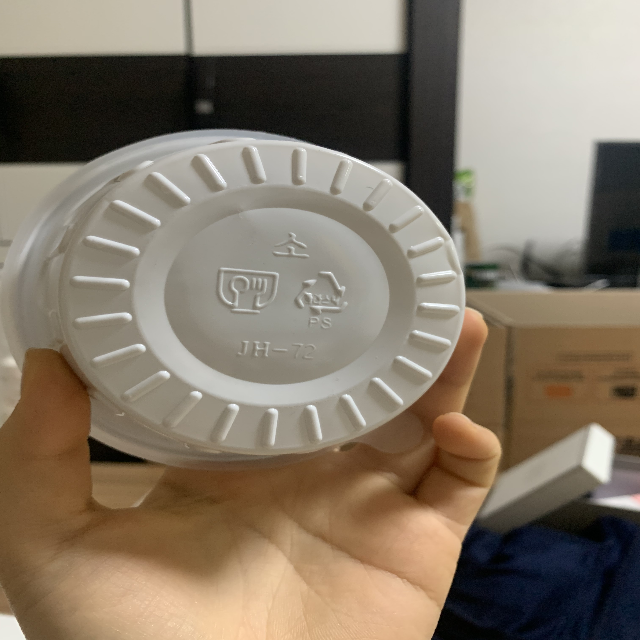ps: (290, 267, 349, 332)
